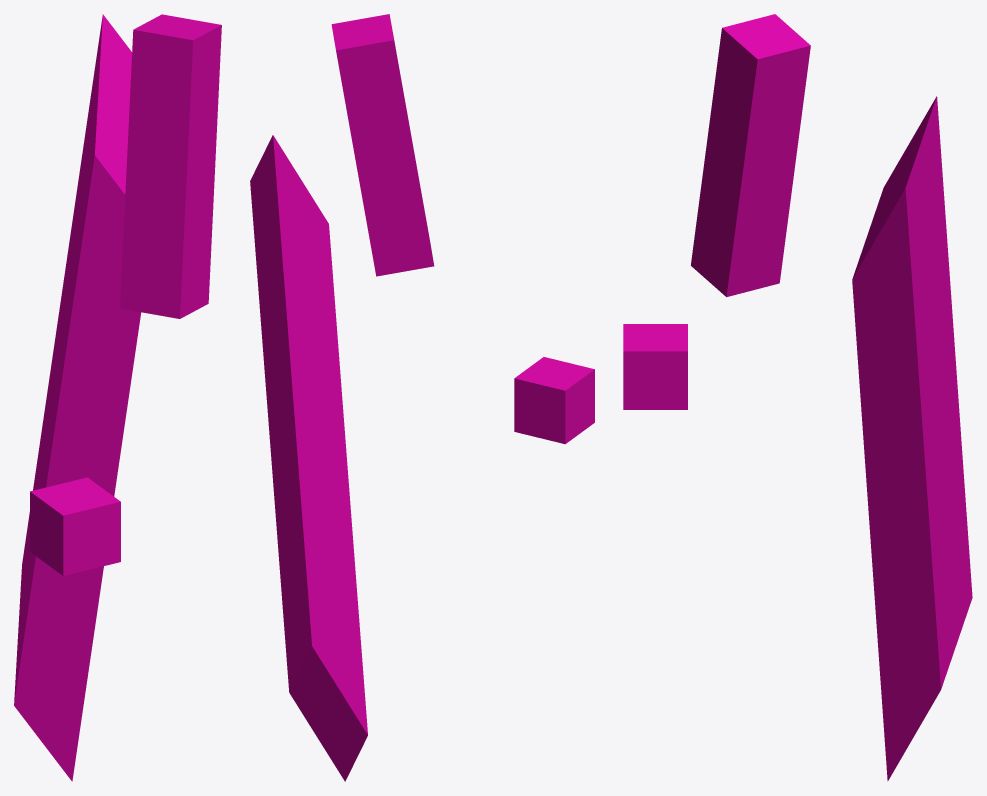
Rendered from sponza_reduced.glb.
3 renders of one model, left to right at view 1: azimuth 30°, elevation 25°; view 2: azimuth 150°, elevation 25°; view 3: azimuth 270°, elevation 25°, orthographic. The views are drawn at different scales.
Parts seen in each view (by area): view 1: Cube.001, Cube.002, Cube; view 2: Cube.001, Cube.002, Cube; view 3: Cube.001, Cube.002, Cube.
Part boxes in pixels (bbox=[...]): Cube.001: bbox=[14, 14, 141, 781]; Cube.002: bbox=[120, 14, 221, 318]; Cube: bbox=[30, 477, 120, 575]; Cube.001: bbox=[250, 135, 367, 781]; Cube.002: bbox=[331, 14, 434, 276]; Cube: bbox=[514, 357, 594, 444]; Cube.001: bbox=[852, 96, 972, 781]; Cube.002: bbox=[691, 14, 810, 297]; Cube: bbox=[623, 324, 687, 409].
Size of the model in its own units: 8.45 by 26.37 by 10.82.
